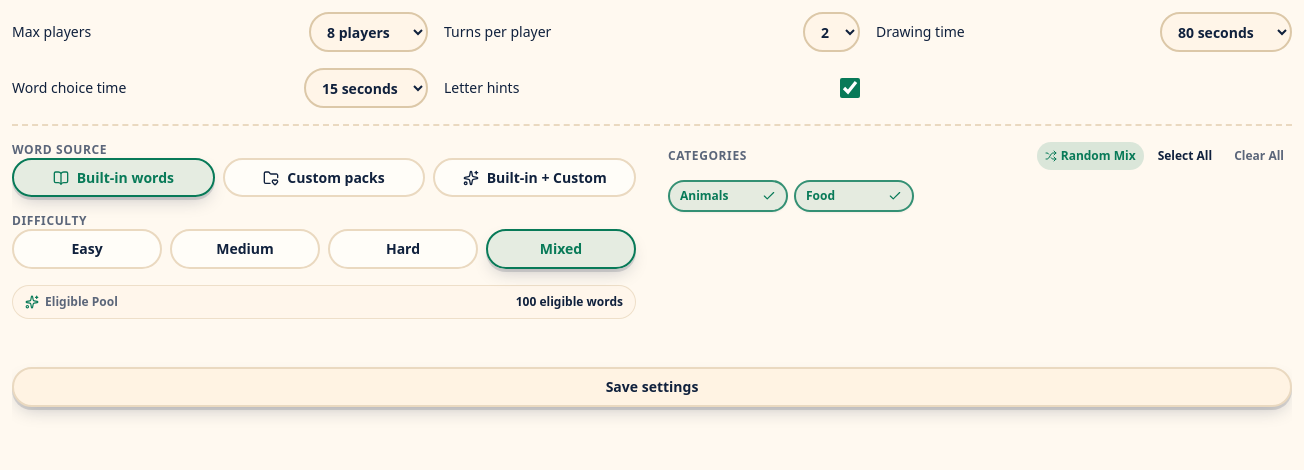
Test: RoomSettingsForm with Draw & Guess word settings › displays WORD_POOL_TOO_SMALL error when server rejects pool size
Expected: the element named "word source" is shown, [12,158,636,197]
Click the button "Save settings" at coordinates (652, 387), box [12,367,1292,407]
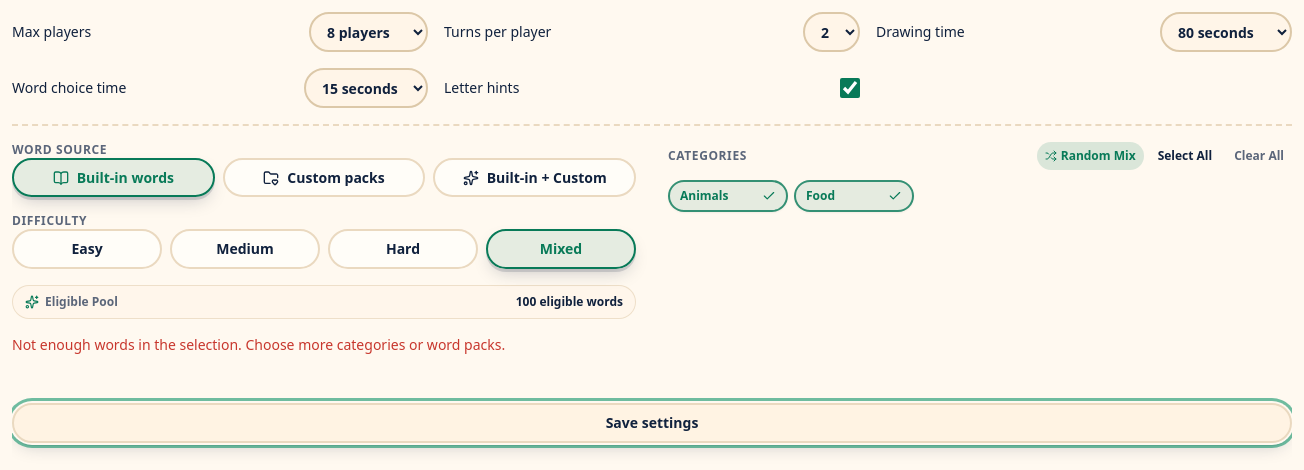
Now the message shows "Not enough words in the selection", box [12,335,505,354]
